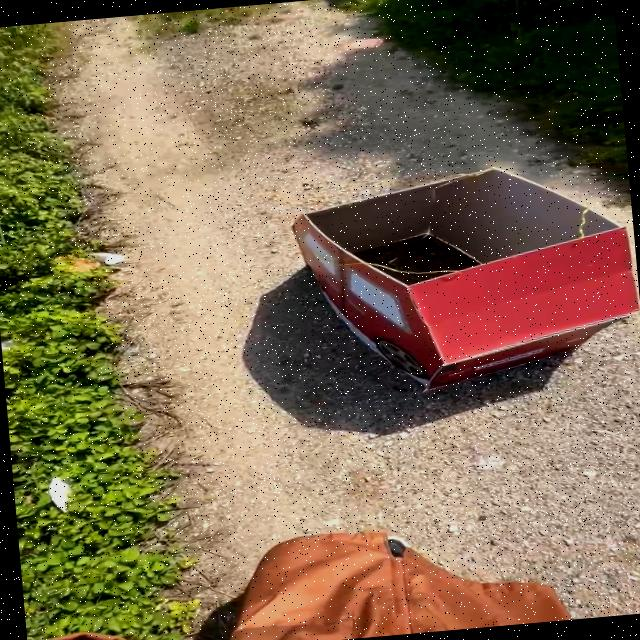red_car: (253, 148, 640, 418)
